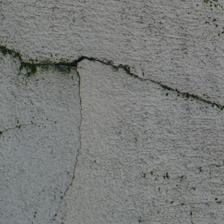Crack: (0, 83, 98, 139), (0, 185, 106, 224)
